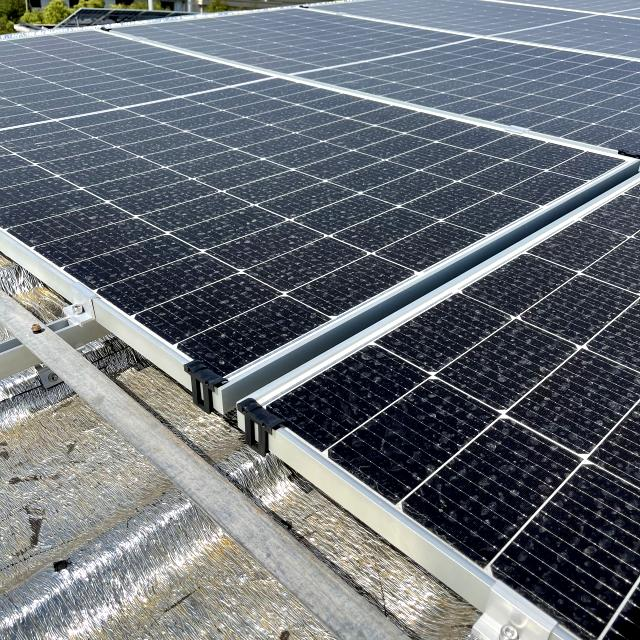dust: (87, 108, 286, 262), (292, 133, 401, 276), (474, 322, 592, 406), (430, 448, 570, 514), (185, 283, 278, 345), (550, 258, 632, 308)
